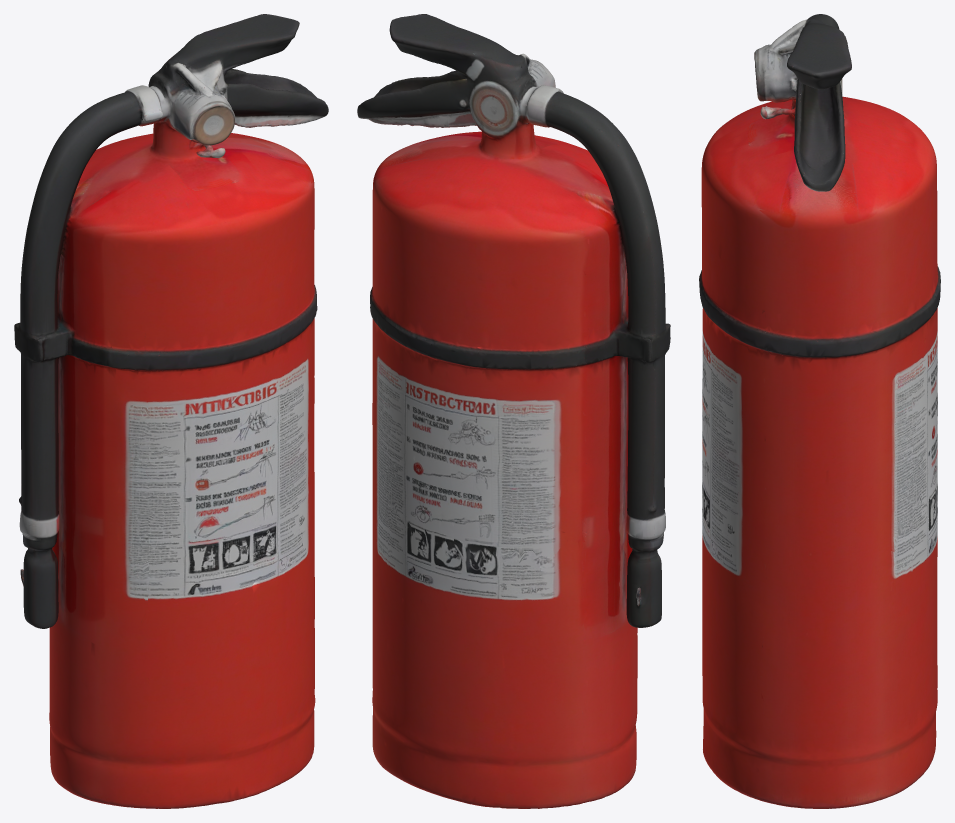
Rendered from extintor.fbx.
3 renders of one model, left to right at view 1: azimuth 30°, elevation 25°; view 2: azimuth 150°, elevation 25°; view 3: azimuth 270°, elevation 25°, orthographic. The views are drawn at different scales.
Visible parts, largest first — view 1: Mesh_0; view 2: Mesh_0; view 3: Mesh_0.
Part boxes in pixels (x1,y1,x2,y2): Mesh_0: (14,14,328,808); Mesh_0: (357,14,670,808); Mesh_0: (699,14,940,808).
Bounding box in the file's own units: 31.06 × 70.07 × 20.86.
1 material, 1 textured.
